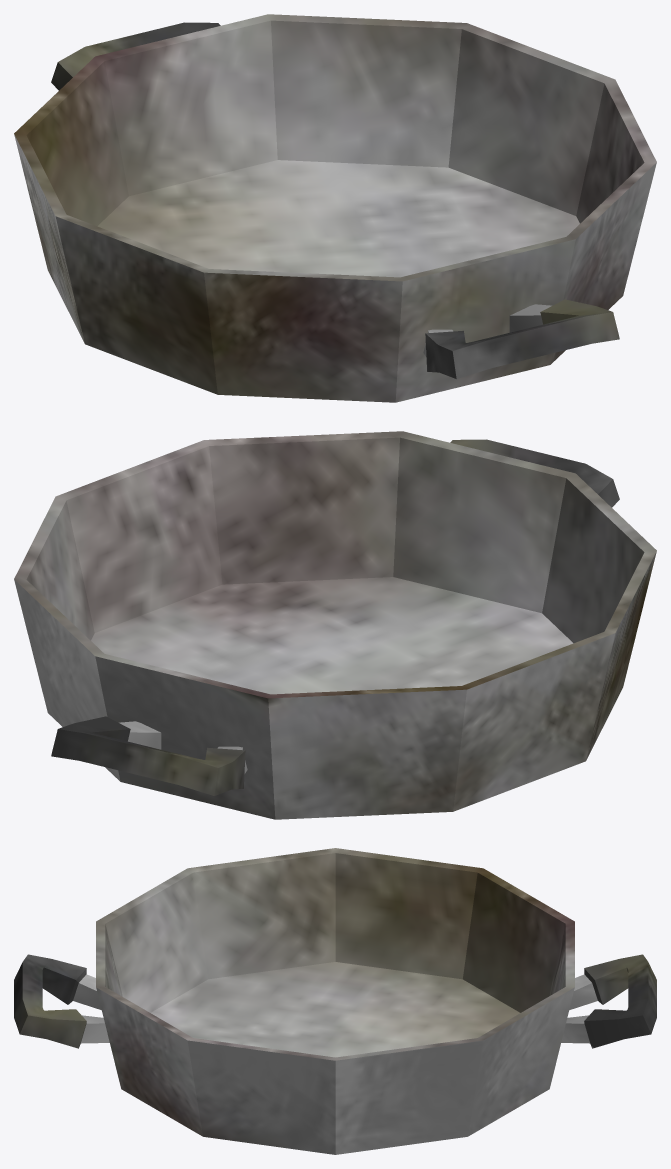
The model's file is saucepan.glb.
The picture shows the model from 3 angles, top to bottom: view 1: azimuth 30°, elevation 25°; view 2: azimuth 150°, elevation 25°; view 3: azimuth 270°, elevation 25°; orthographic projection. The views are drawn at different scales.
Parts seen in each view (by area): view 1: saucepan; view 2: saucepan; view 3: saucepan.
Boxes of the visible parts, x1,y1,x2,y2 form: saucepan: [14, 14, 656, 402]; saucepan: [14, 431, 656, 819]; saucepan: [14, 848, 656, 1154].
Size of the model in its own units: 0.3132 by 0.0723 by 0.4.
1 material, 1 textured.
